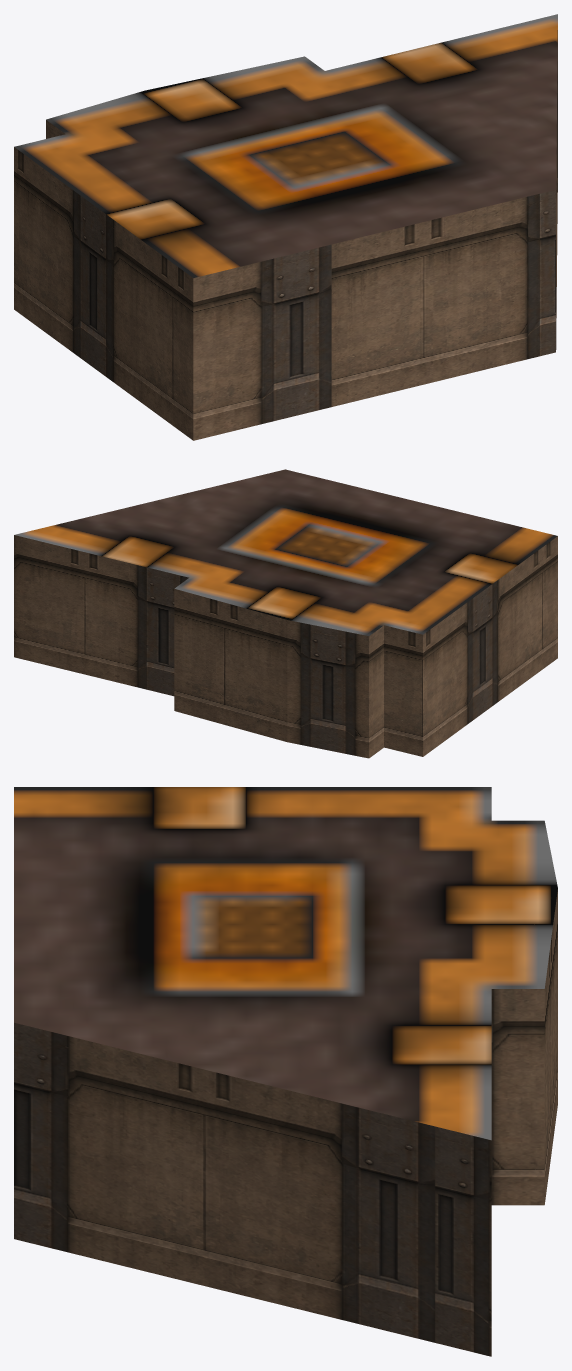
The model's file is heavy_roof12.glb.
The picture shows the model from 3 angles, top to bottom: view 1: azimuth 30°, elevation 25°; view 2: azimuth 150°, elevation 25°; view 3: azimuth 270°, elevation 25°; orthographic projection. The views are drawn at different scales.
Parts seen in each view (by area): view 1: buildings/saxarba/heavy/heavy_roof12; view 2: buildings/saxarba/heavy/heavy_roof12; view 3: buildings/saxarba/heavy/heavy_roof12.
Boxes of the visible parts, x1,y1,x2,y2 form: buildings/saxarba/heavy/heavy_roof12: (14, 14, 557, 440); buildings/saxarba/heavy/heavy_roof12: (14, 469, 557, 758); buildings/saxarba/heavy/heavy_roof12: (14, 787, 557, 1356).
Bounding box in the file's own units: 63 × 18 × 41.
